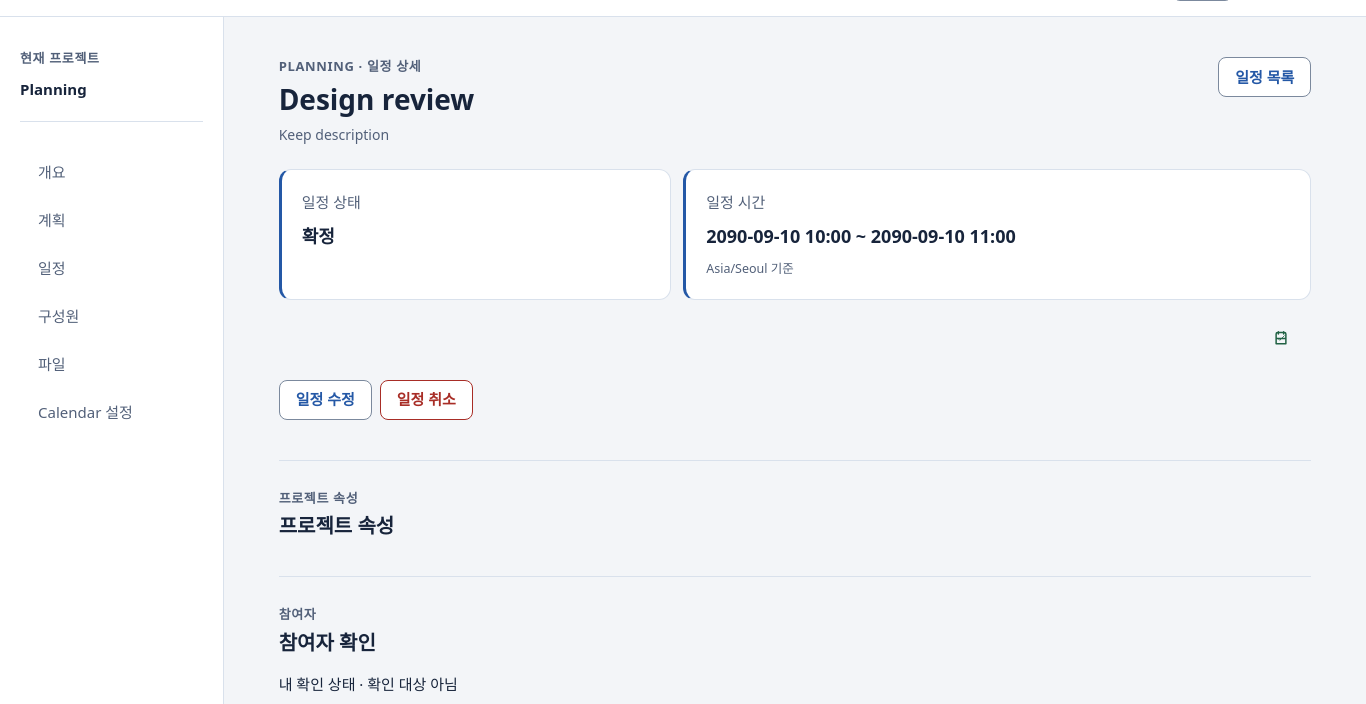
detail hides cached participant identity through read 403 and 500 until a fresh 200
The width and height of the screenshot is (1366, 704).
Click the button "일정 취소" at (426, 400), box [380,380,473,420]
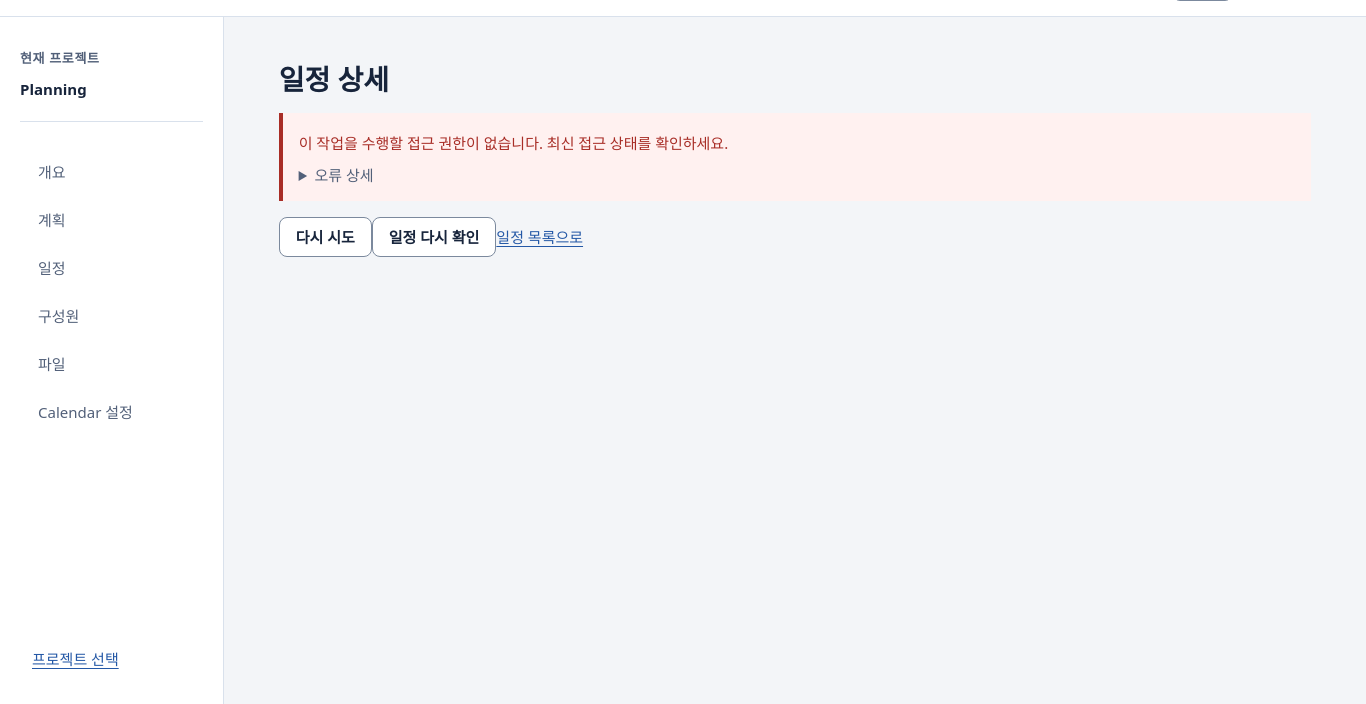
Click the button "일정 다시 확인" at (434, 237), box [372,217,496,257]
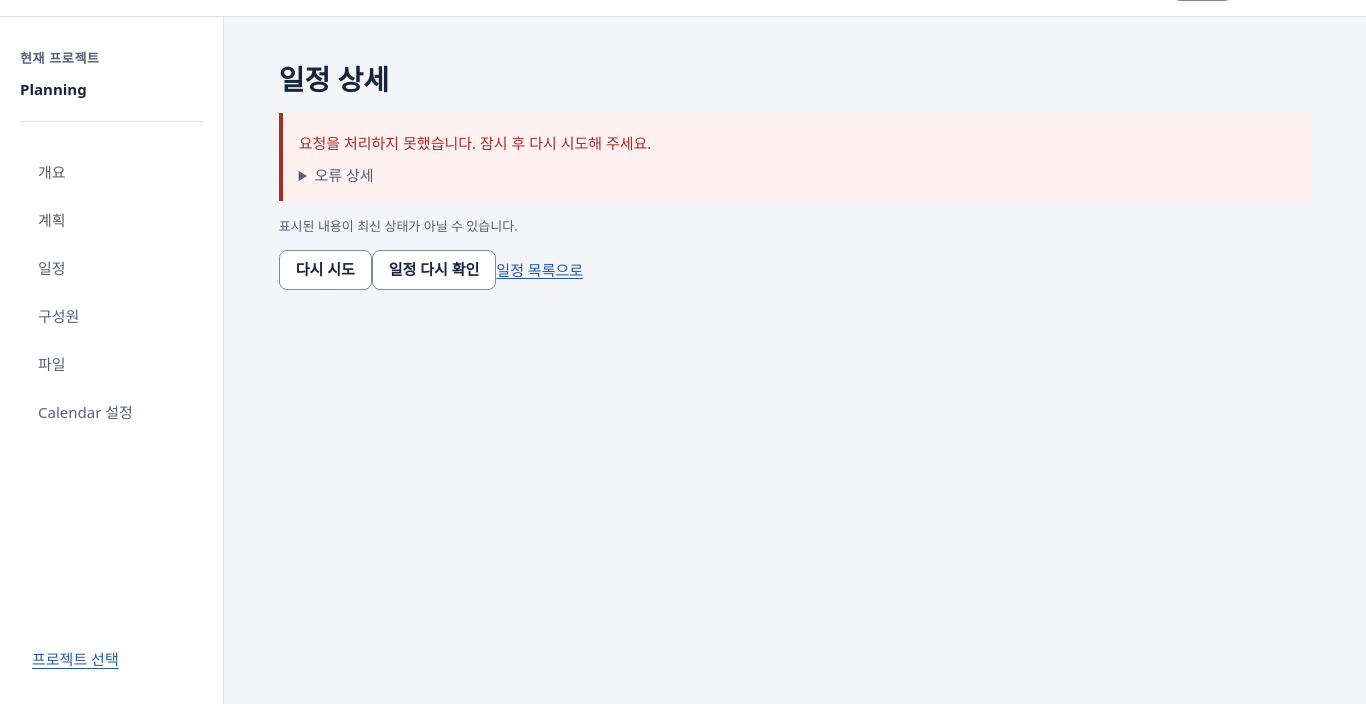
Expected: the text "Private member · private@example.test" is not shown
Click the button "일정 다시 확인" at (434, 270), box [372,250,496,290]
(page scrolled)
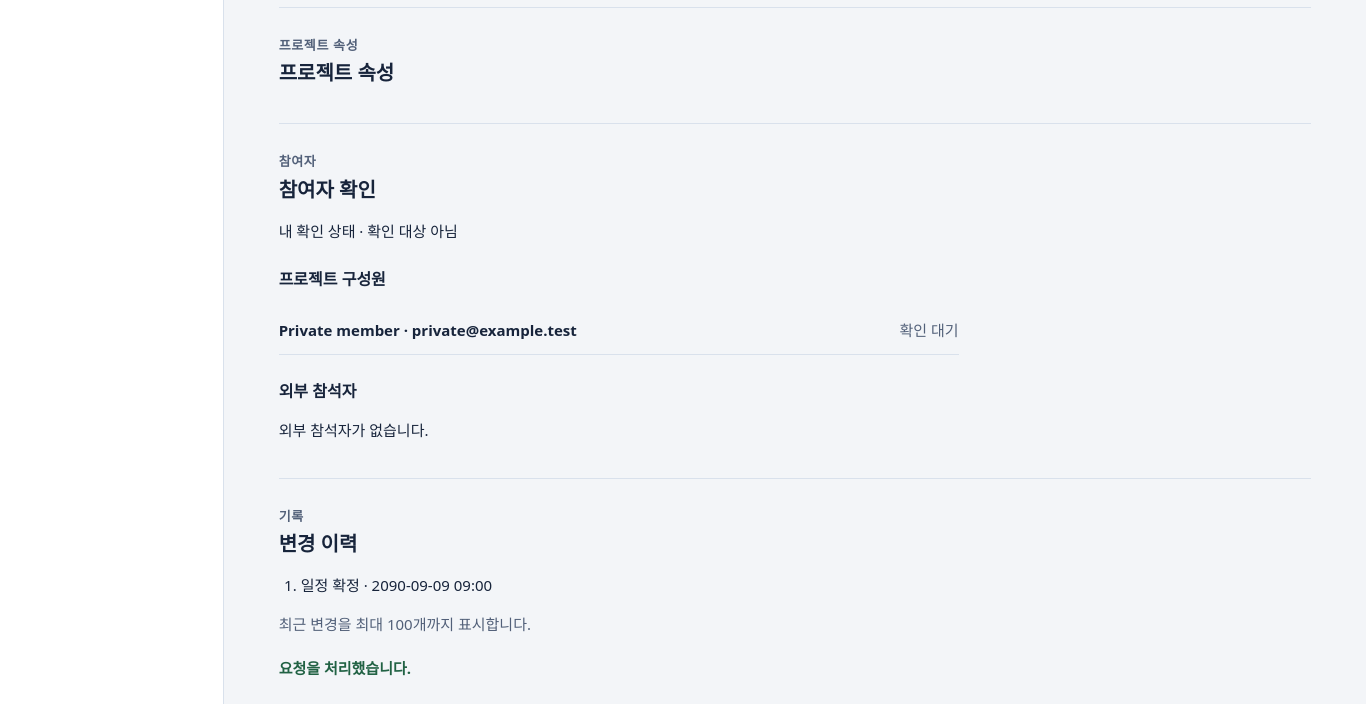
Now the text "Private member · private@example.test" is shown, box [279,318,577,342]
